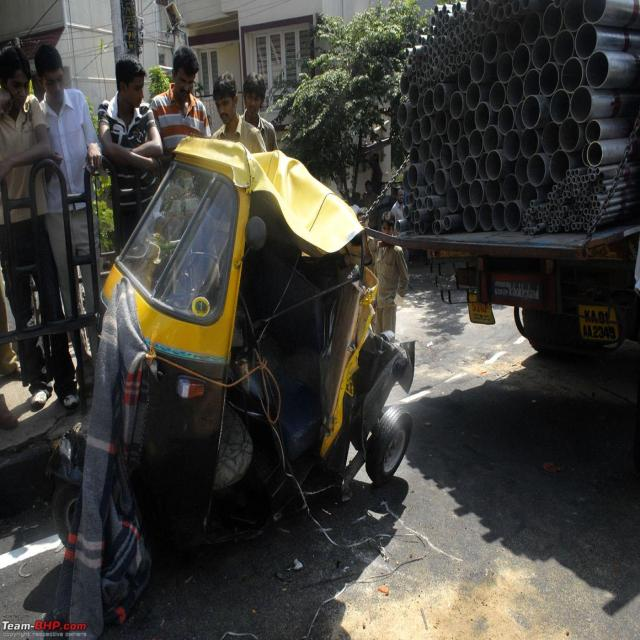accident: (31, 136, 415, 639), (103, 138, 415, 548)
truck: (391, 0, 640, 353)
